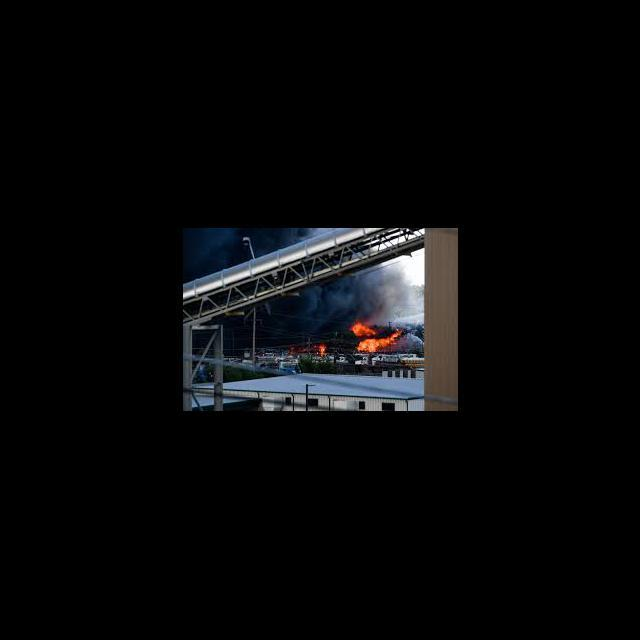Fire: (349, 324, 402, 354), (318, 344, 326, 354)
Smoke: (303, 287, 418, 321), (184, 230, 233, 266)
